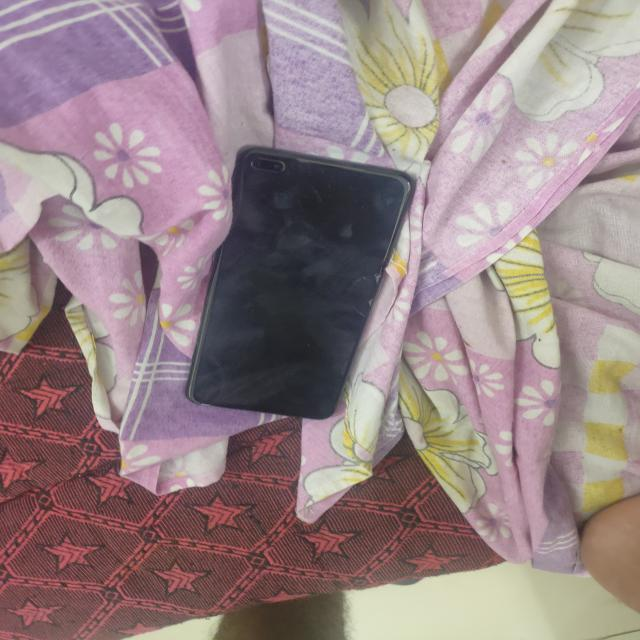Phone: (182, 142, 420, 427)
